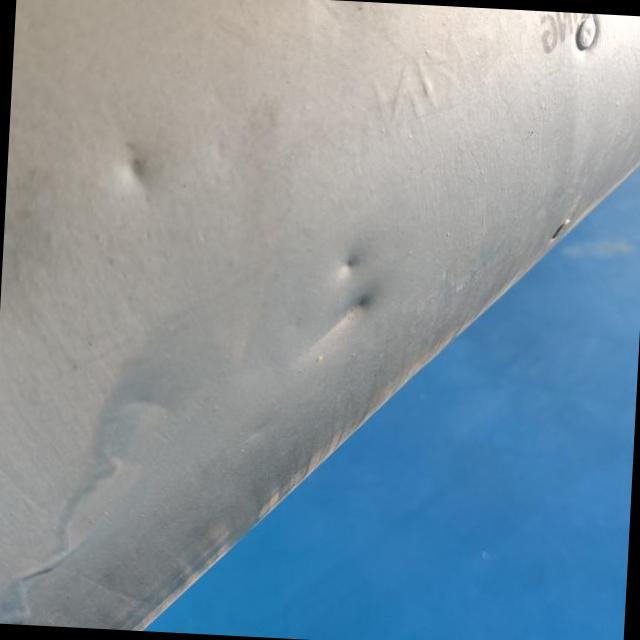Dent: (288, 265, 381, 369), (79, 136, 179, 212), (328, 242, 371, 296)
